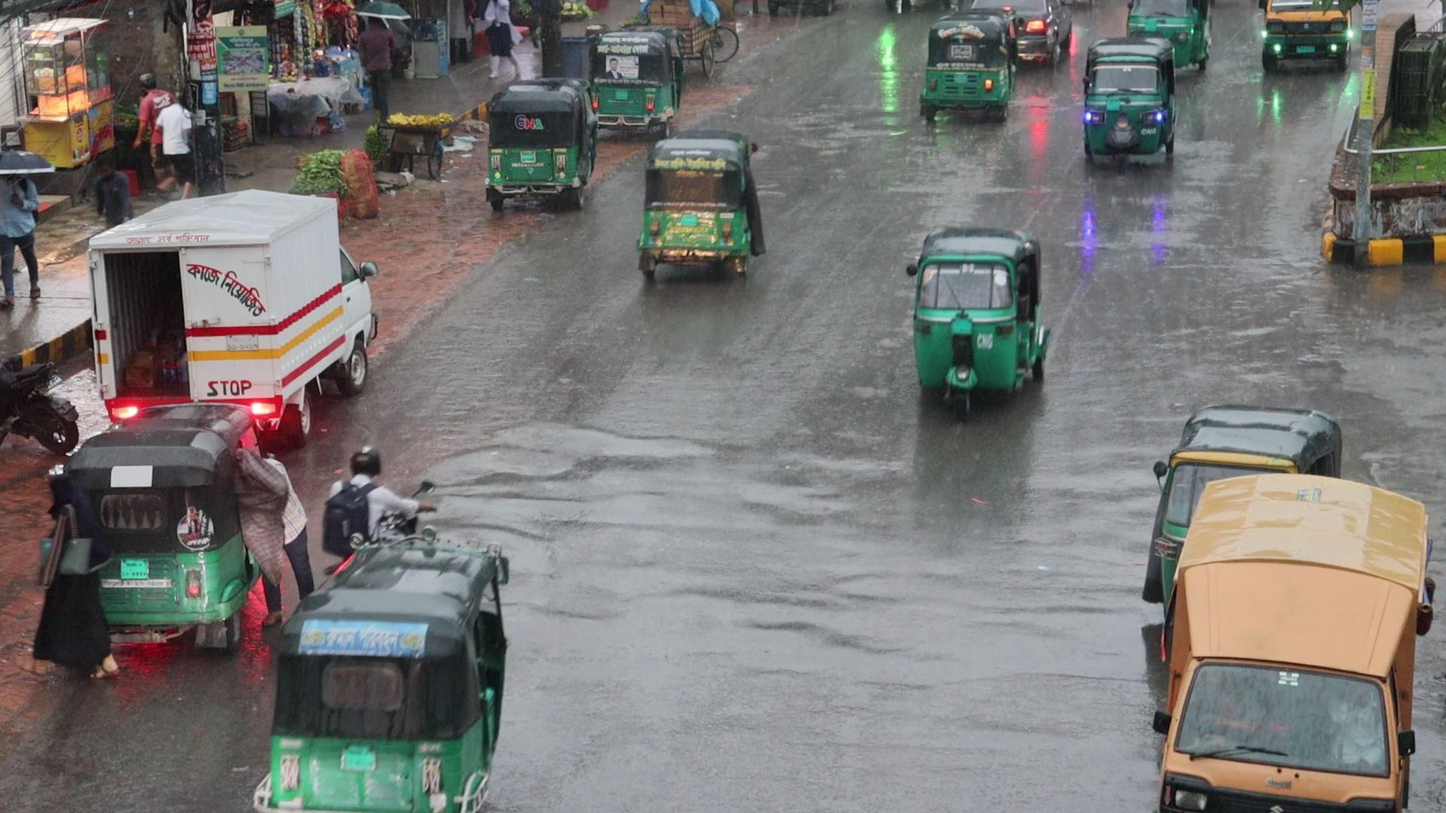Truck: (1165, 475, 1436, 813)
